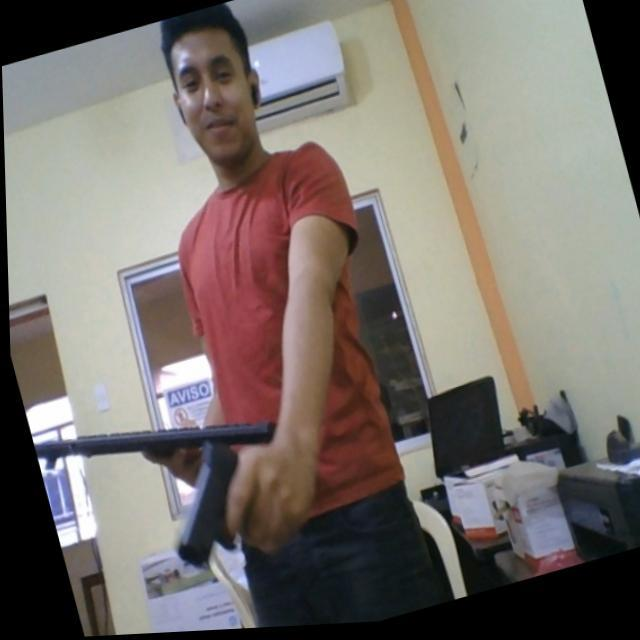weapon: (142, 421, 306, 580)
